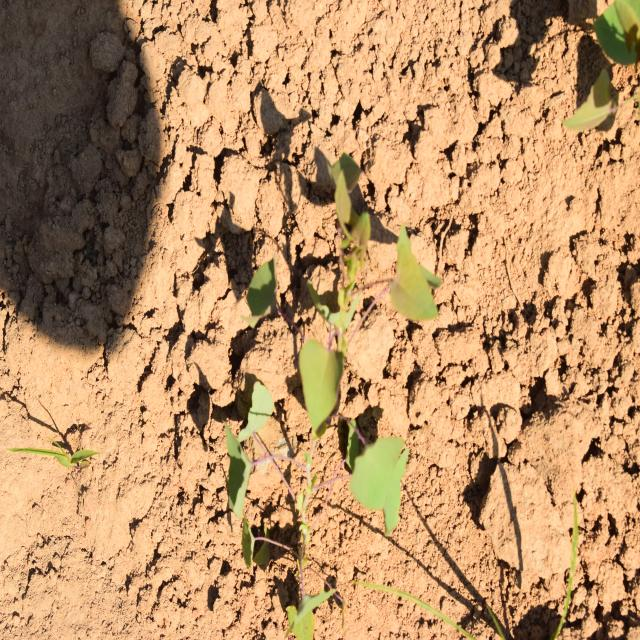Asiatic_Smartweed: (216, 344, 415, 550), (242, 164, 436, 341)
